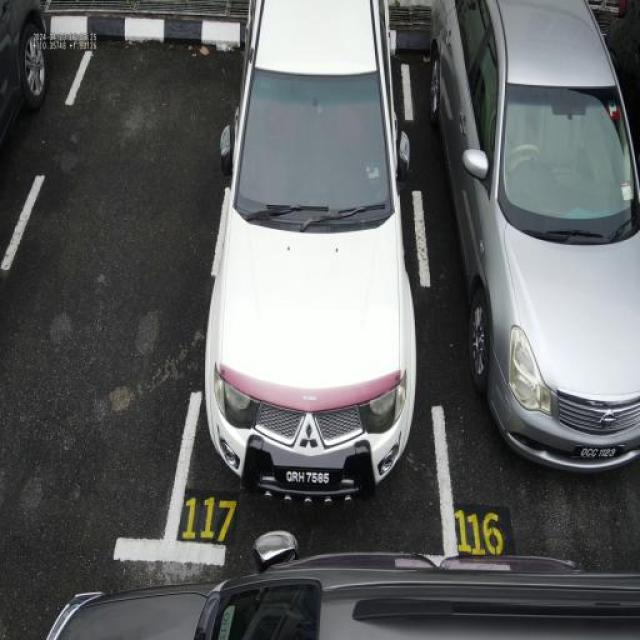Legalparking: (0, 1, 640, 506)
illegalparking: (42, 491, 640, 640)
